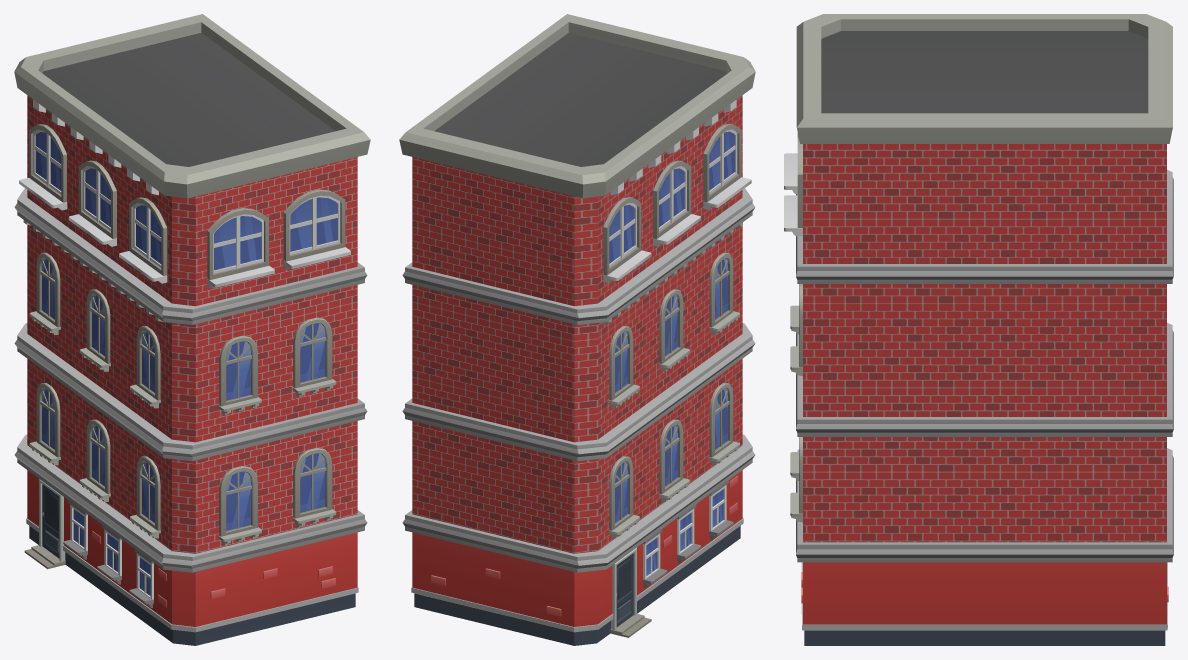
File: Building_18_2_N.glb
3 renders of one model, left to right at view 1: azimuth 30°, elevation 25°; view 2: azimuth 150°, elevation 25°; view 3: azimuth 270°, elevation 25°, orthographic. The views are drawn at different scales.
Visible parts, largest first — view 1: Building_18_2_N; view 2: Building_18_2_N; view 3: Building_18_2_N.
Part boxes in pixels (x1=…): Building_18_2_N: x1=14, y1=14, x2=370, y2=645; Building_18_2_N: x1=399, y1=14, x2=755, y2=645; Building_18_2_N: x1=784, y1=14, x2=1173, y2=645.
Bounding box in the file's own units: 7.19 × 15.94 × 10.59.
Materials: 4 (4 with a texture image).
